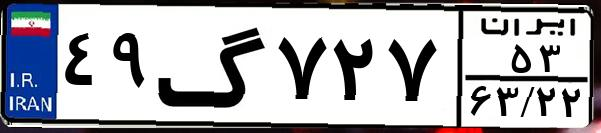2: (330, 28, 385, 110), (560, 70, 590, 125), (535, 70, 560, 125)
3: (537, 27, 568, 80), (495, 70, 520, 125)
4: (57, 26, 110, 100)
5: (508, 27, 537, 80)
6: (470, 70, 495, 125)
7: (270, 28, 330, 110), (385, 28, 445, 110)
9: (110, 28, 156, 98)
گ: (156, 12, 270, 120)
